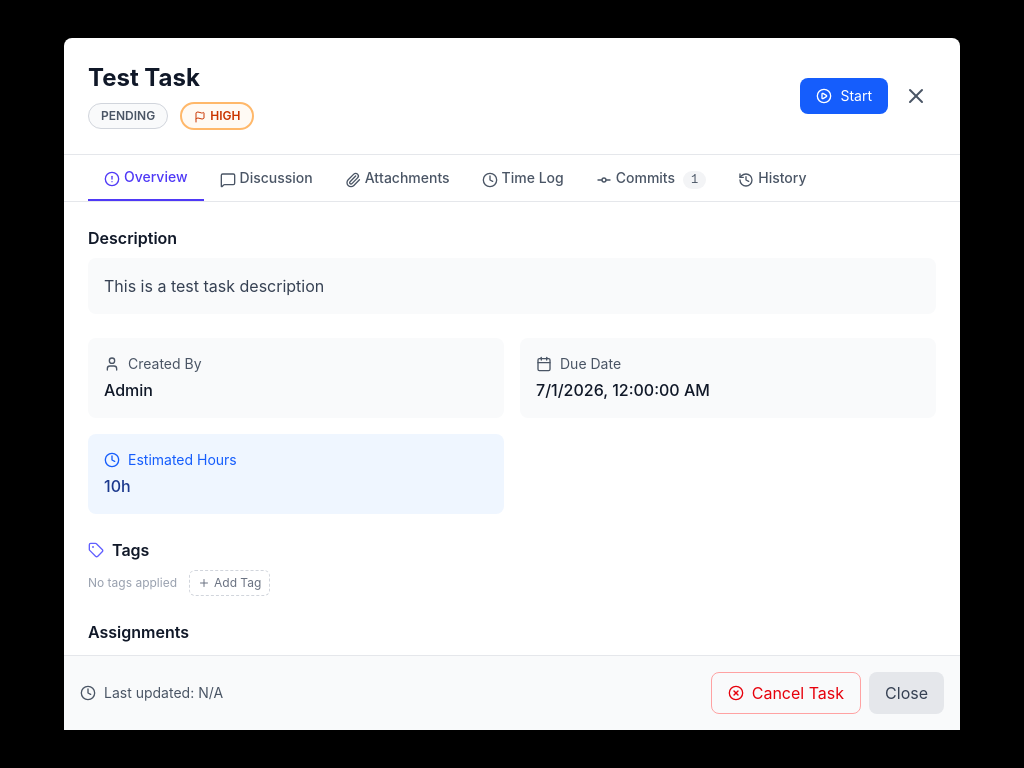
Scenario: TaskDetailsModal extended coverage › successfully fetches GitHub integration commits and branches when API succeeds
Click the button "Commits1" at (651,178), box 580,155 -> 722,201
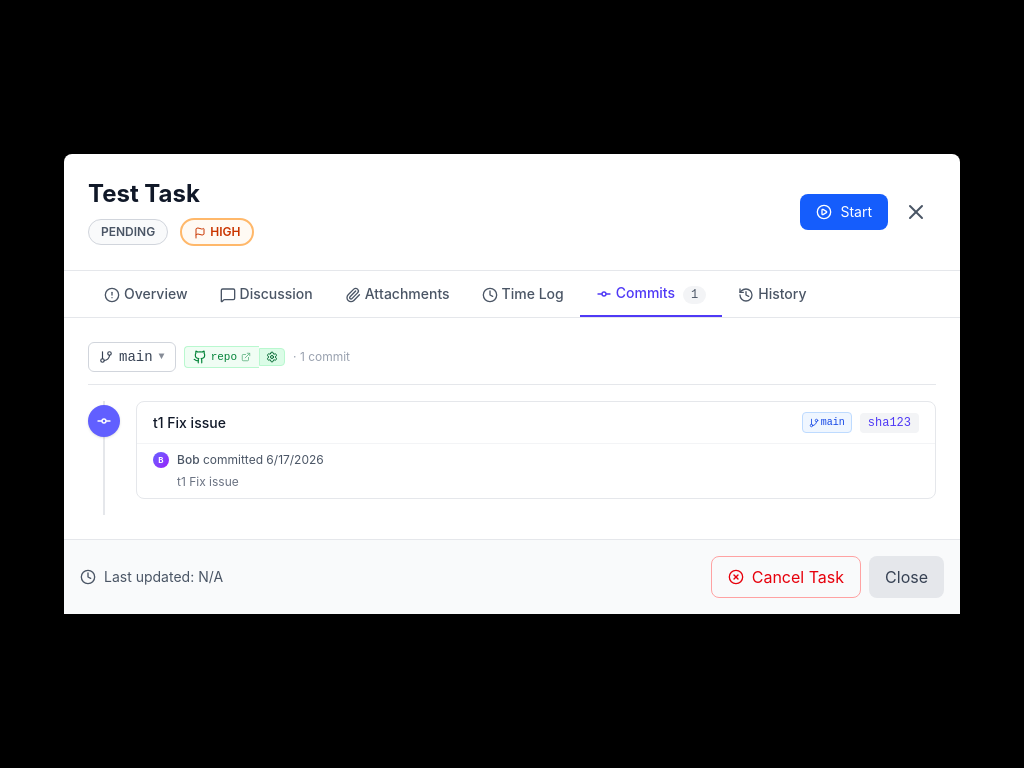
Expected: the text "t1 Fix issue" in the row of "sha123" is shown, 153,414 -> 226,430
